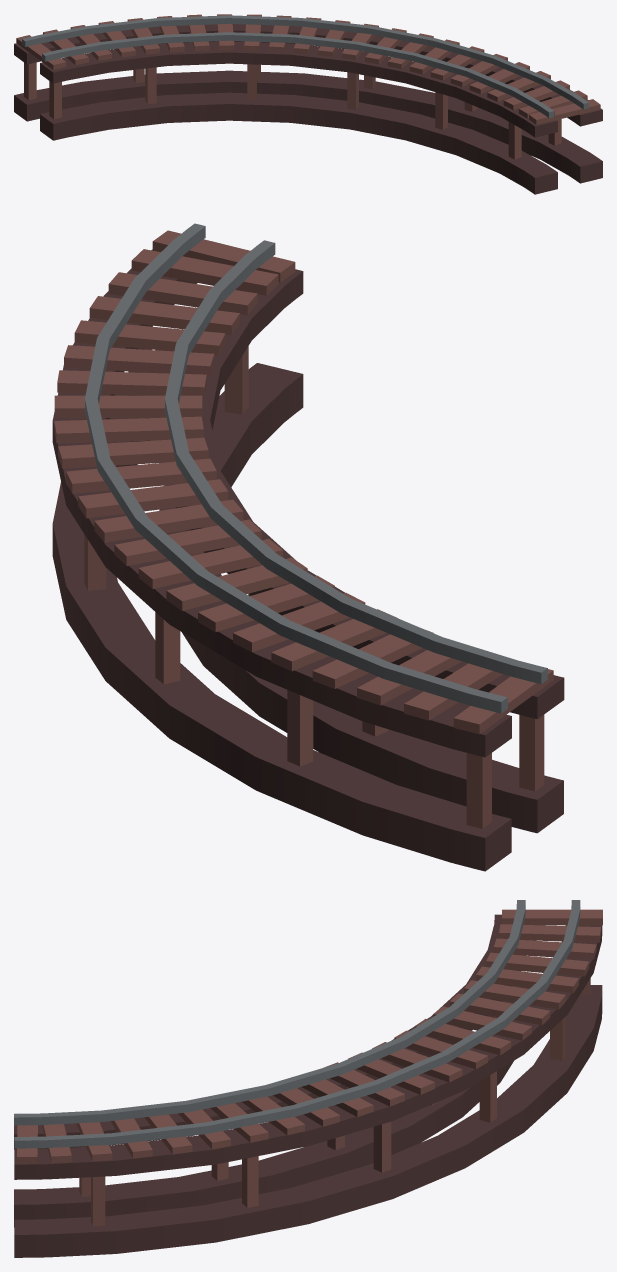
File: DarkRoseWoodMechMedium0_85GaugeLeftTurn1.fbx
3 renders of one model, top to bottom at view 1: azimuth 30°, elevation 25°; view 2: azimuth 150°, elevation 25°; view 3: azimuth 270°, elevation 25°, orthographic. The views are drawn at different scales.
Parts seen in each view (by area): view 1: DarkRoseWoodMechMedium0_85GaugeLeftTurn1; view 2: DarkRoseWoodMechMedium0_85GaugeLeftTurn1; view 3: DarkRoseWoodMechMedium0_85GaugeLeftTurn1.
Part boxes in pixels (box(x1,y1,x2,y2)): DarkRoseWoodMechMedium0_85GaugeLeftTurn1: box(14, 14, 602, 194); DarkRoseWoodMechMedium0_85GaugeLeftTurn1: box(52, 223, 564, 871); DarkRoseWoodMechMedium0_85GaugeLeftTurn1: box(14, 900, 602, 1257).
Size of the model in its own units: 1098 by 221 by 1094.
